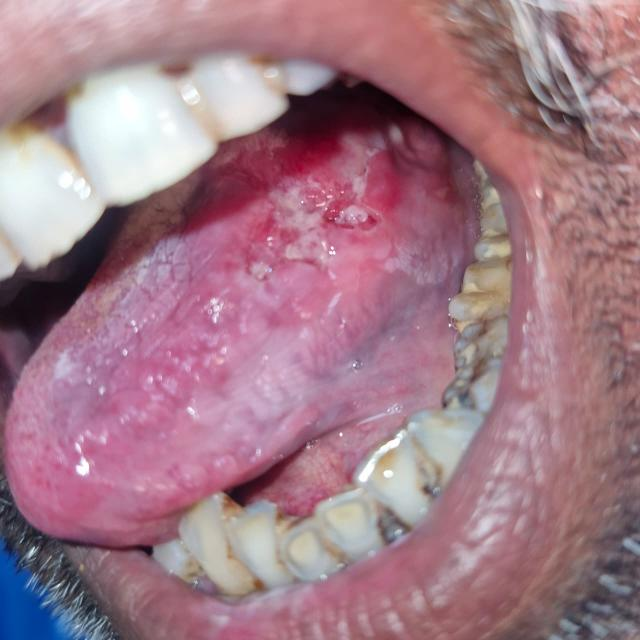cancer-detection: (27, 123, 440, 509)
processing_area: (3, 121, 477, 544)
